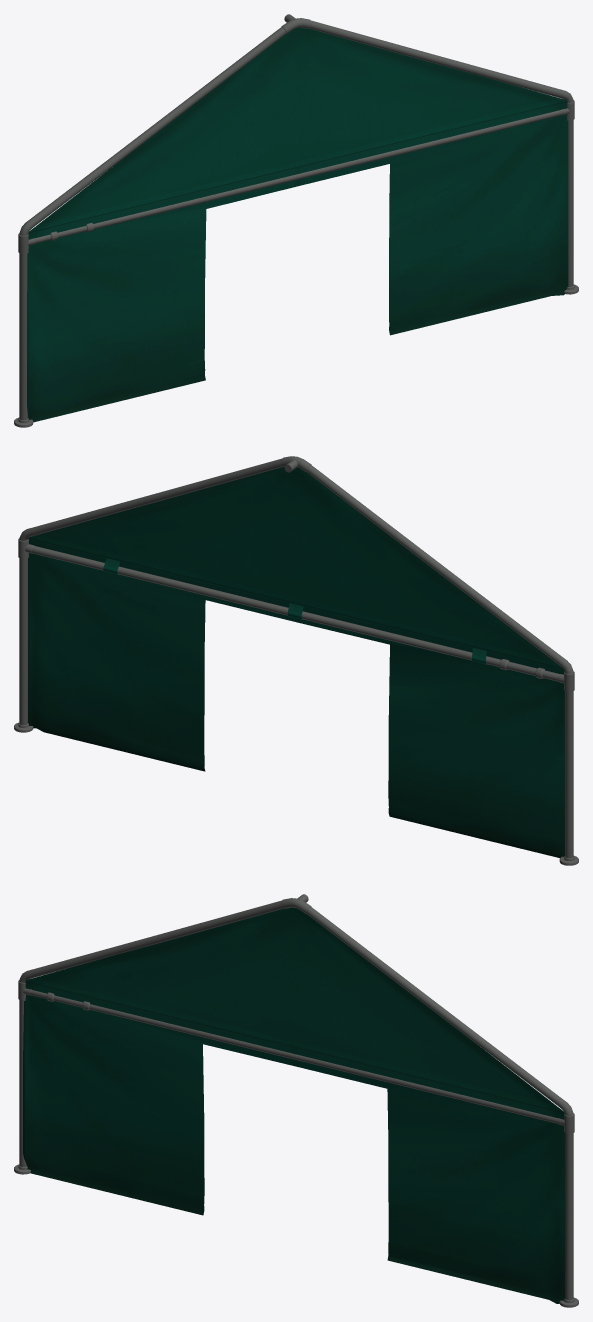
The model's file is Front.glb.
3 views of the same model, one above another, from view 1: azimuth 30°, elevation 25°; view 2: azimuth 150°, elevation 25°; view 3: azimuth 330°, elevation 25° (orthographic).
Visible parts, largest first — view 1: Front; view 2: Front; view 3: Front.
Boxes of the visible parts, x1,y1,x2,y2 form: Front: (14, 14, 578, 427); Front: (14, 456, 578, 865); Front: (14, 894, 578, 1307).
Size of the model in its own units: 6.82 by 3.91 by 0.2776.
Materials: 1 (1 with a texture image).
